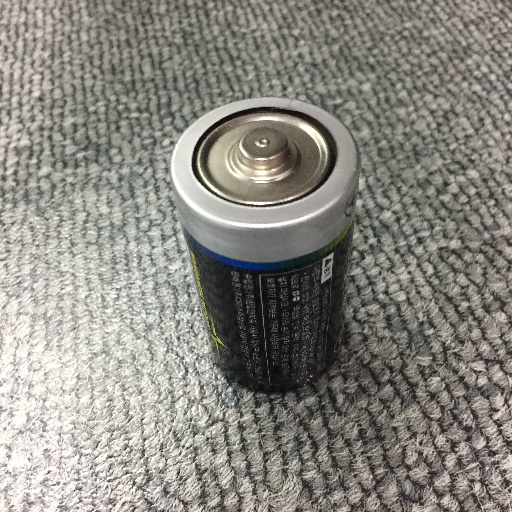Battery_0: (164, 78, 374, 411)
